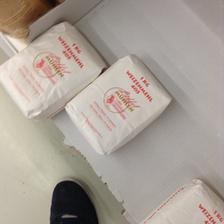Mehl: (64, 54, 172, 154), (0, 22, 104, 120), (134, 178, 222, 222)
